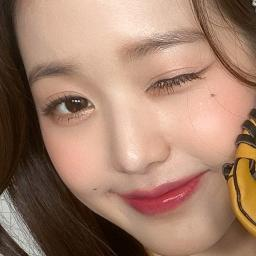face: (22, 0, 220, 254)
